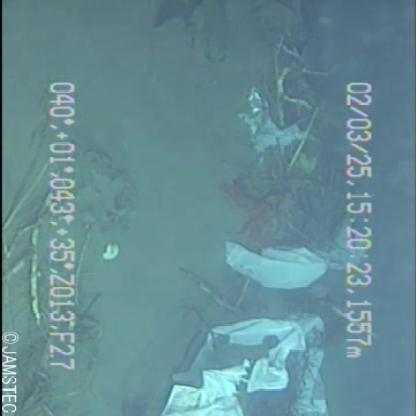Rác: (161, 300, 329, 416), (212, 193, 376, 290)
